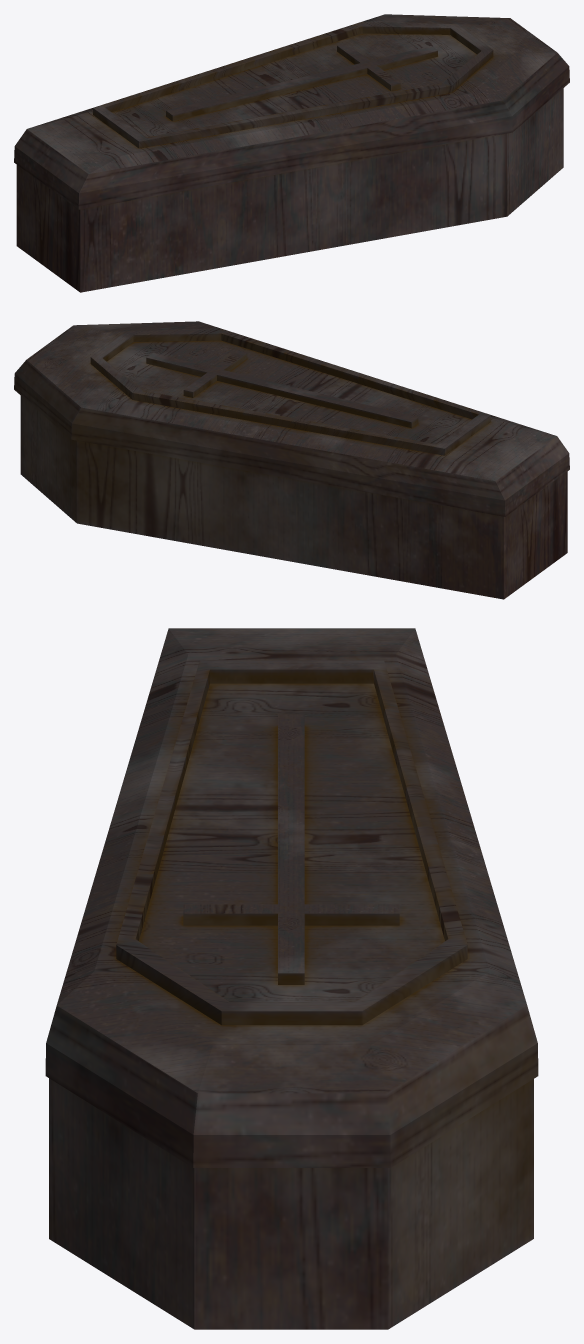
Rendered from coffin1.fbx.
3 renders of one model, top to bottom at view 1: azimuth 30°, elevation 25°; view 2: azimuth 150°, elevation 25°; view 3: azimuth 270°, elevation 25°, orthographic. The views are drawn at different scales.
Parts seen in each view (by area): view 1: coffin_01; view 2: coffin_01; view 3: coffin_01.
Part boxes in pixels (<box>): coffin_01: <box>14,14,569,292</box>; coffin_01: <box>14,321,569,599</box>; coffin_01: <box>45,628,538,1329</box>.
Size of the model in its own units: 153 by 37.59 by 65.62.
Materials: 1 (1 with a texture image).
